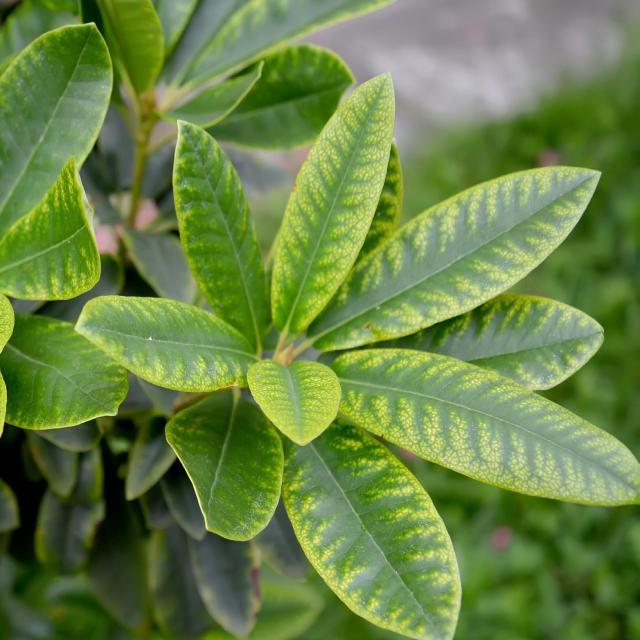Chlorosis: (8, 4, 630, 634)
